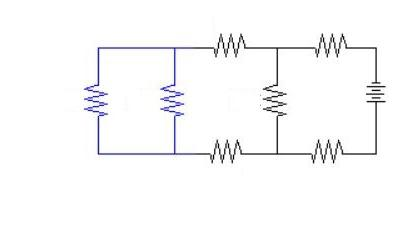resistor: (301, 18, 358, 73), (253, 70, 296, 131), (150, 68, 193, 126), (298, 130, 353, 175), (198, 128, 251, 169), (76, 71, 110, 130), (201, 24, 251, 63)
